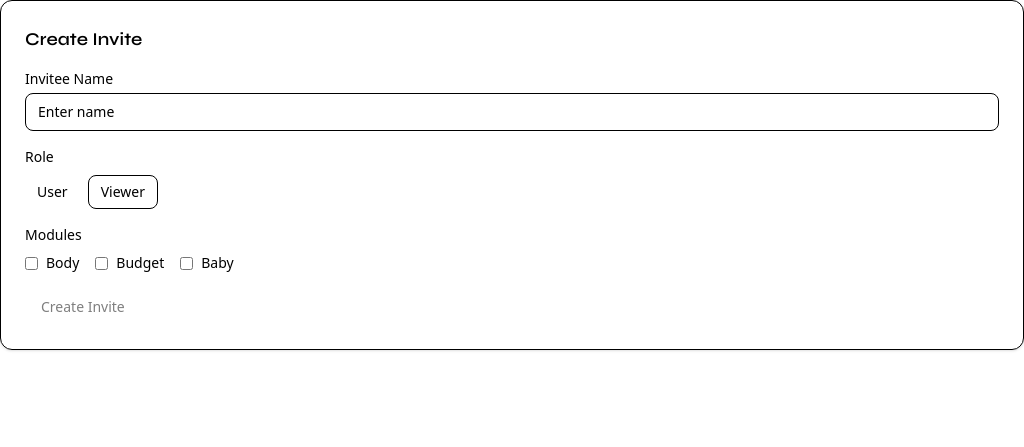
Test: InviteGenerator — role selector › hides "View of" picker when switching back to User
What coordinates should you click on to do the following:
click the button "Viewer"
I would click on:
 (123, 192)
Its box is [88,175,158,209].
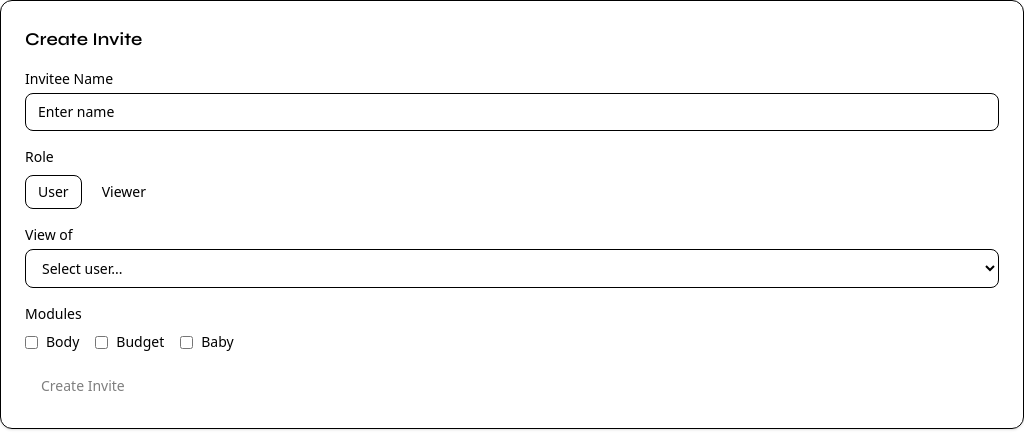
Now the text "View of" is shown, box [25,225,73,244]
What coordinates should you click on to do the following:
click the button "User"
I would click on:
 (53, 192)
Its box is [25,175,82,209].
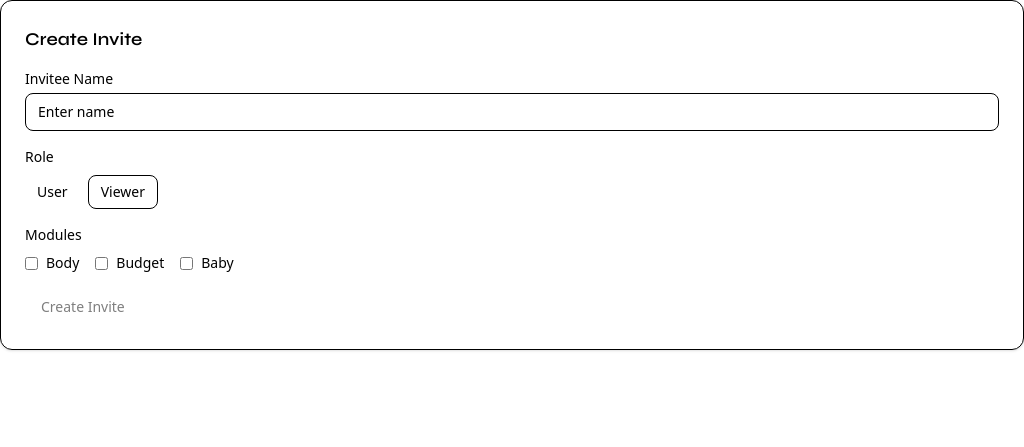
Now the text "View of" is gone
